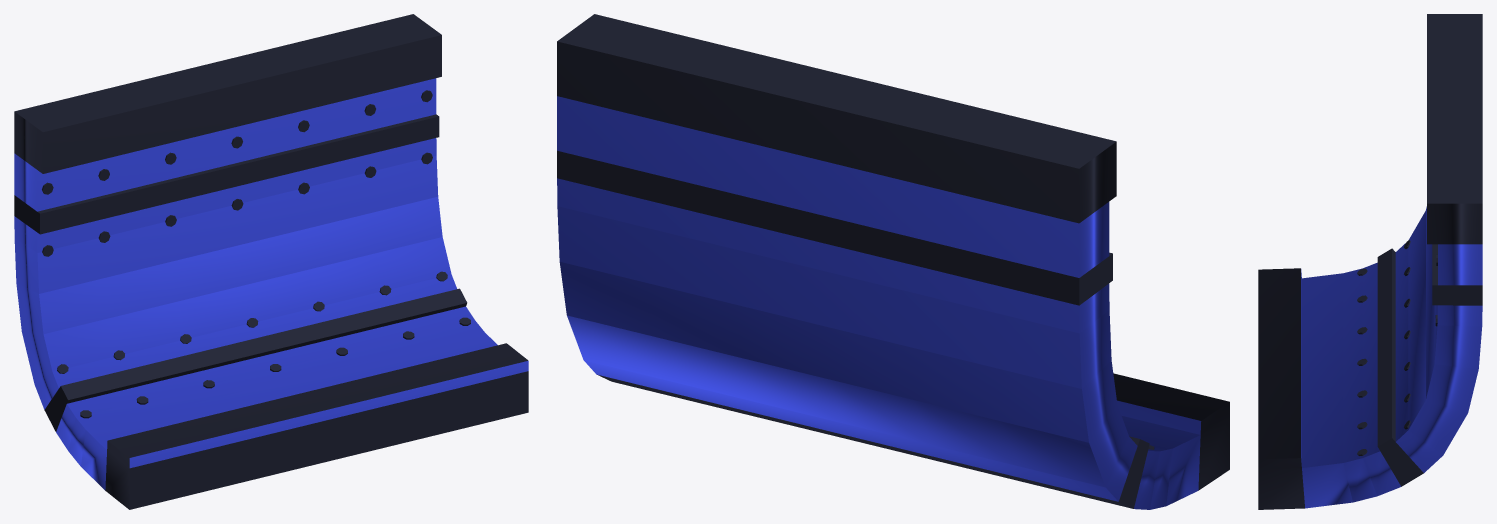
File: Roof_Curved.fbx
3 views of the same model, side by side, from view 1: azimuth 30°, elevation 25°; view 2: azimuth 150°, elevation 25°; view 3: azimuth 270°, elevation 25° (orthographic). The views are drawn at different scales.
Visible parts, largest first — view 1: Roof Curved; view 2: Roof Curved; view 3: Roof Curved.
Part boxes in pixels (bbox=[...]): Roof Curved: bbox=[14, 14, 528, 509]; Roof Curved: bbox=[557, 14, 1229, 509]; Roof Curved: bbox=[1258, 14, 1482, 509].
Size of the model in its own units: 200 by 150 by 99.97.
